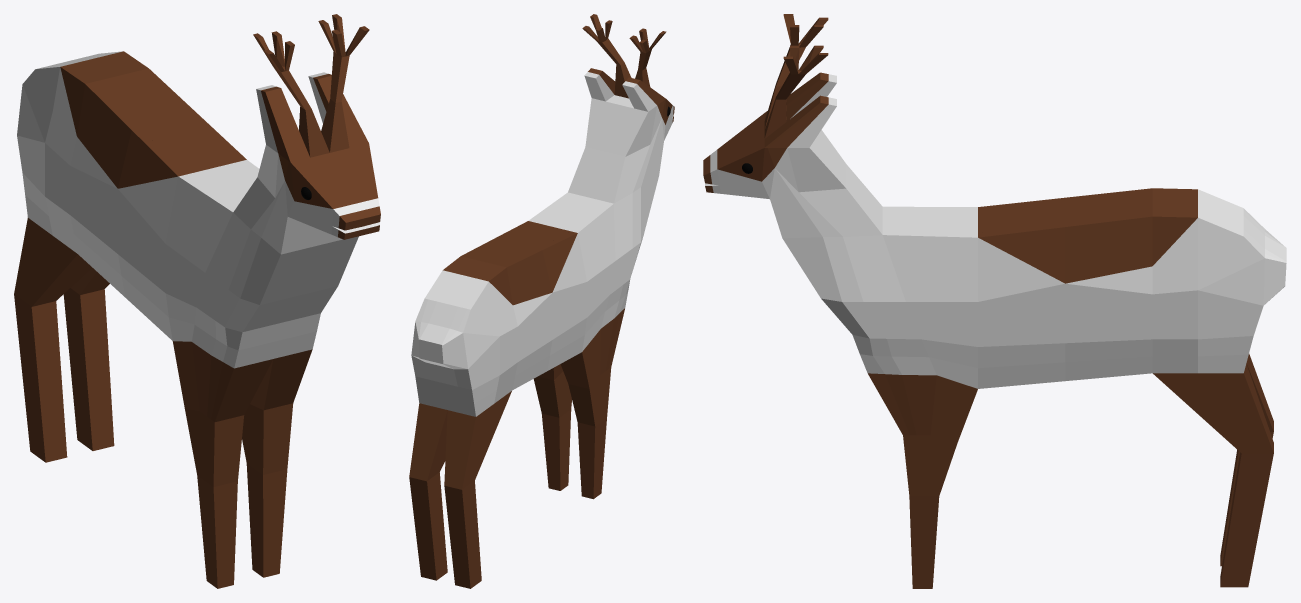
The model's file is Reindeer.fbx.
3 renders of one model, left to right at view 1: azimuth 30°, elevation 25°; view 2: azimuth 150°, elevation 25°; view 3: azimuth 270°, elevation 25°, orthographic. The views are drawn at different scales.
Parts seen in each view (by area): view 1: Reindeer_Body; view 2: Reindeer_Body; view 3: Reindeer_Body.
Boxes of the visible parts, x1,y1,x2,y2 form: Reindeer_Body: (14, 14, 380, 588); Reindeer_Body: (409, 14, 674, 588); Reindeer_Body: (703, 14, 1286, 588).
Bounding box in the file's own units: 257 × 1439 × 1412.
